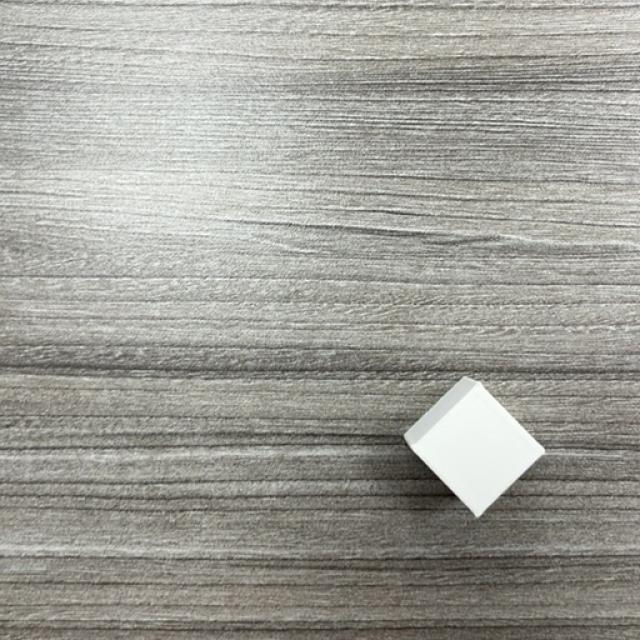Blanco: (401, 378, 546, 519)
